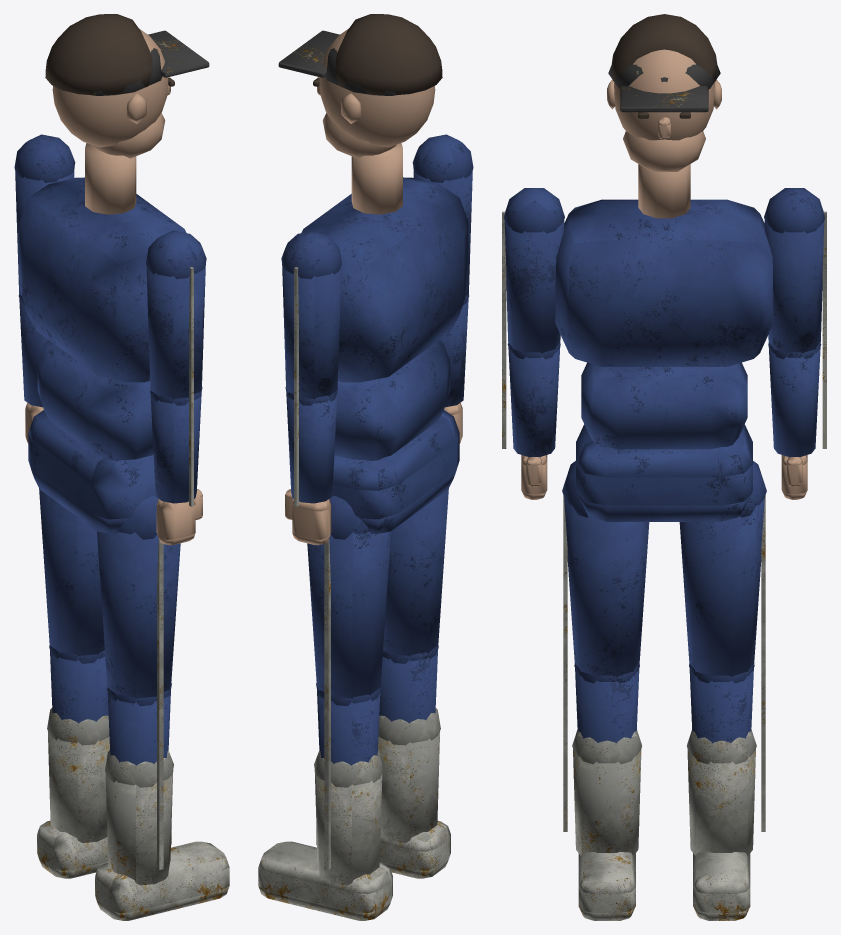
File: char_bot.glb
3 renders of one model, left to right at view 1: azimuth 30°, elevation 25°; view 2: azimuth 150°, elevation 25°; view 3: azimuth 270°, elevation 25°, orthographic.
Visible parts, largest first — view 1: box.002, cyl.008, box.001, box, cyl.005, blob.004, box.012, cyl.003, cyl.010, cyl.007, blob, cyl.004 (+18 smaller); view 2: box.002, cyl.005, box.001, box, cyl.008, blob.004, box.011, cyl.001, cyl.007, cyl.010, blob, cyl.002 (+18 smaller); view 3: box.002, box.001, box, cyl.005, cyl.008, cyl.001, cyl.003, cyl.007, cyl.010, cyl.002, cyl.004, blob (+19 smaller).
Boxes of the visible parts, x1,y1,x2,y2 form: box.002: (19,177,186,382); cyl.008: (97,531,180,698); box.001: (37,340,153,460); box: (28,410,155,533); cyl.005: (39,488,104,656); blob.004: (45,14,152,94); box.012: (95,841,229,920); cyl.003: (146,264,205,399); cyl.010: (105,770,173,885); cyl.007: (48,731,109,842); blob: (52,28,168,147); cyl.004: (150,393,201,503); box.002: (301,177,468,382); cyl.005: (307,531,390,698); box.001: (334,340,450,460); box: (332,410,459,533); cyl.008: (383,488,448,656); blob.004: (335,14,442,94); box.011: (258,841,392,920); cyl.001: (282,264,341,399); cyl.007: (314,770,382,885); cyl.010: (378,731,439,842); blob: (319,28,435,147); cyl.002: (286,393,337,503); box.002: (555,199,773,366); box.001: (581,362,747,449); box: (576,424,752,521); cyl.005: (679,498,764,676); cyl.008: (564,498,649,676); cyl.001: (764,220,824,353); cyl.003: (504,220,564,353); cyl.007: (687,749,755,855); cyl.010: (573,749,641,855); cyl.002: (768,347,820,456); cyl.004: (508,347,560,456); blob: (614,49,714,140).
Bounding box in the file's own units: 0.31 × 1.83 × 0.624.
Materials: 5 (3 with a texture image).
